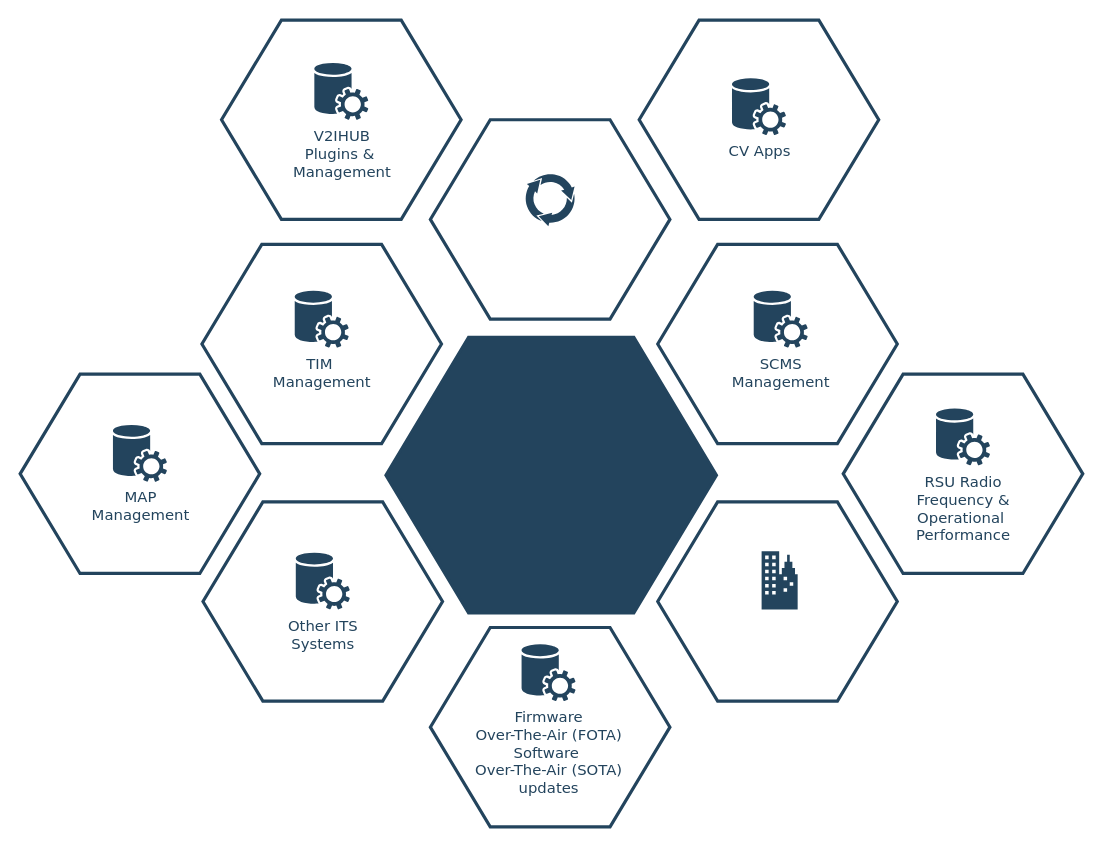
The diagram is 1102 pixels wide and 846 high, and some of its shapes have lost their labels. The shapes that lost their labels are listed below. From the top down, each one's centre as x and y in pixels, then its label:
At [549,199]: "DataBroker Ecosystem".
At [551,474]: "TRAFFIC MANAGEMENT CENTER ( Operations and Maintenance".
At [779,580]: "Infrastructure".
